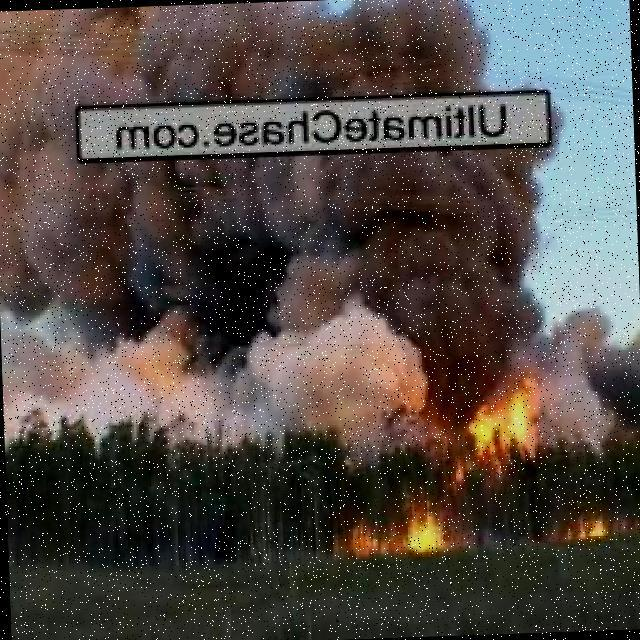Fire: (460, 363, 548, 475), (404, 506, 443, 549), (351, 516, 390, 556), (573, 510, 609, 543)
